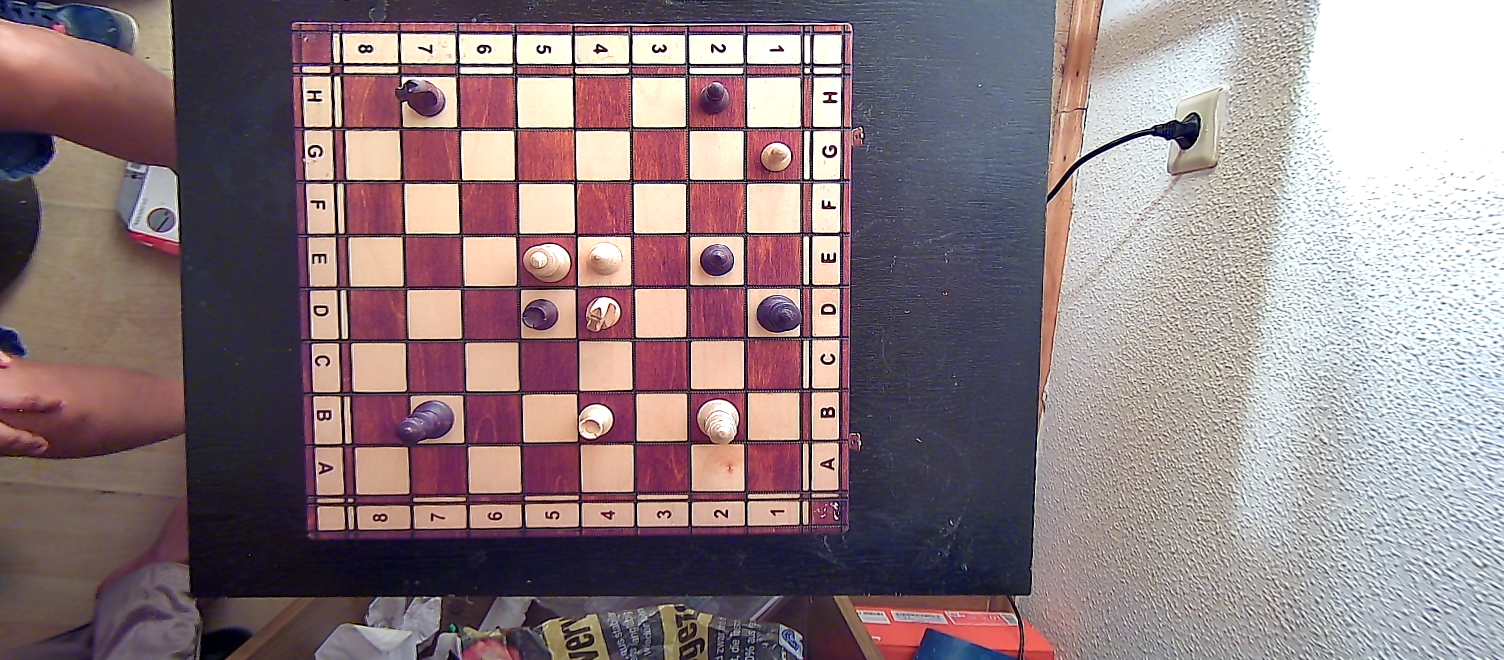black-bishop: (699, 242, 735, 278)
black-king: (755, 292, 805, 333)
black-knight: (394, 72, 448, 120)
black-pawn: (696, 80, 731, 115)
black-queen: (396, 398, 456, 450)
black-rook: (520, 296, 561, 334)
white-bishop: (584, 238, 624, 282)
white-king: (522, 238, 572, 287)
white-knight: (583, 293, 623, 337)
white-pawn: (757, 139, 793, 174)
white-queen: (696, 397, 741, 444)
white-rook: (577, 403, 616, 441)
